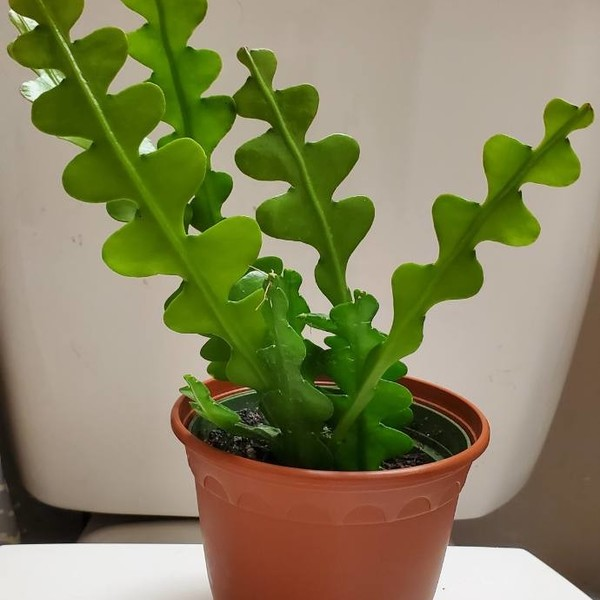obstacle: (16, 14, 577, 584)
